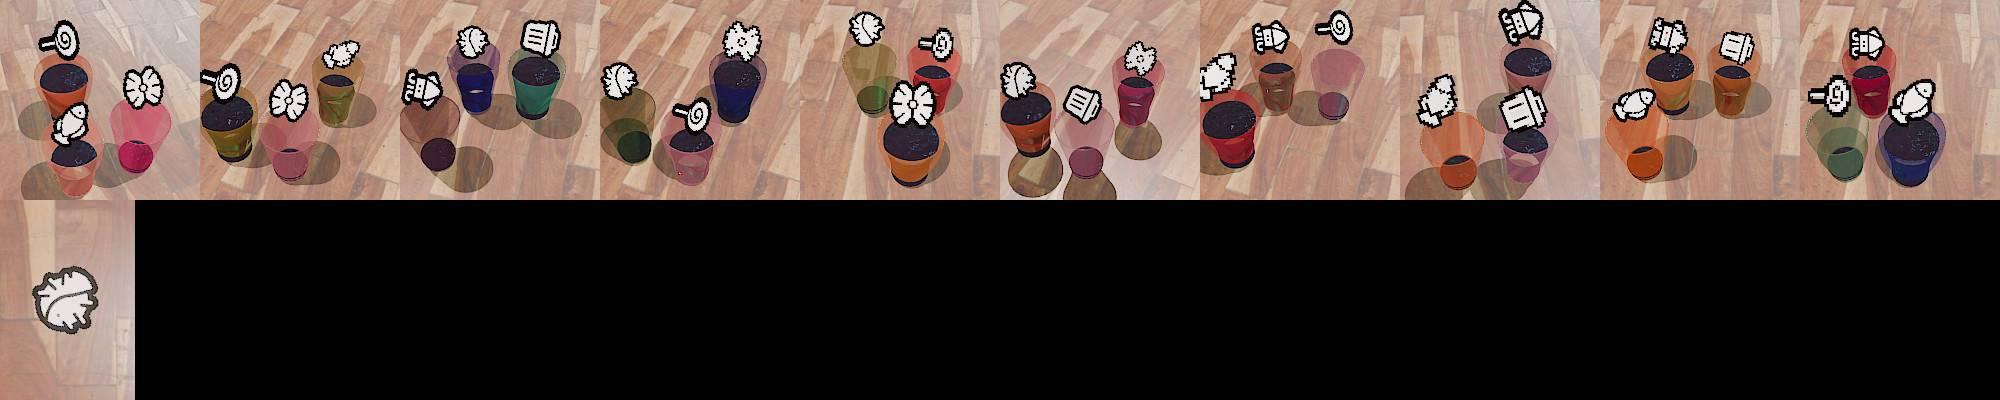icon: (31, 265, 99, 334), (1416, 73, 1458, 129), (889, 78, 936, 127), (1497, 85, 1547, 131), (1888, 78, 1936, 124), (1499, 0, 1545, 45), (1196, 51, 1237, 101), (1806, 74, 1852, 117), (37, 19, 80, 62), (200, 61, 242, 106), (269, 78, 310, 122), (122, 65, 163, 110), (51, 101, 91, 146), (721, 20, 763, 62), (402, 69, 445, 110), (519, 19, 561, 60), (1648, 17, 1690, 56), (1611, 87, 1656, 122), (1064, 84, 1102, 124), (671, 97, 710, 135), (1312, 9, 1353, 46), (599, 61, 638, 99), (1251, 18, 1291, 55), (1000, 61, 1037, 99), (1122, 41, 1159, 78), (1717, 31, 1756, 65), (848, 10, 884, 47), (320, 39, 361, 70), (457, 25, 491, 61), (1848, 25, 1884, 60), (917, 27, 954, 60)
